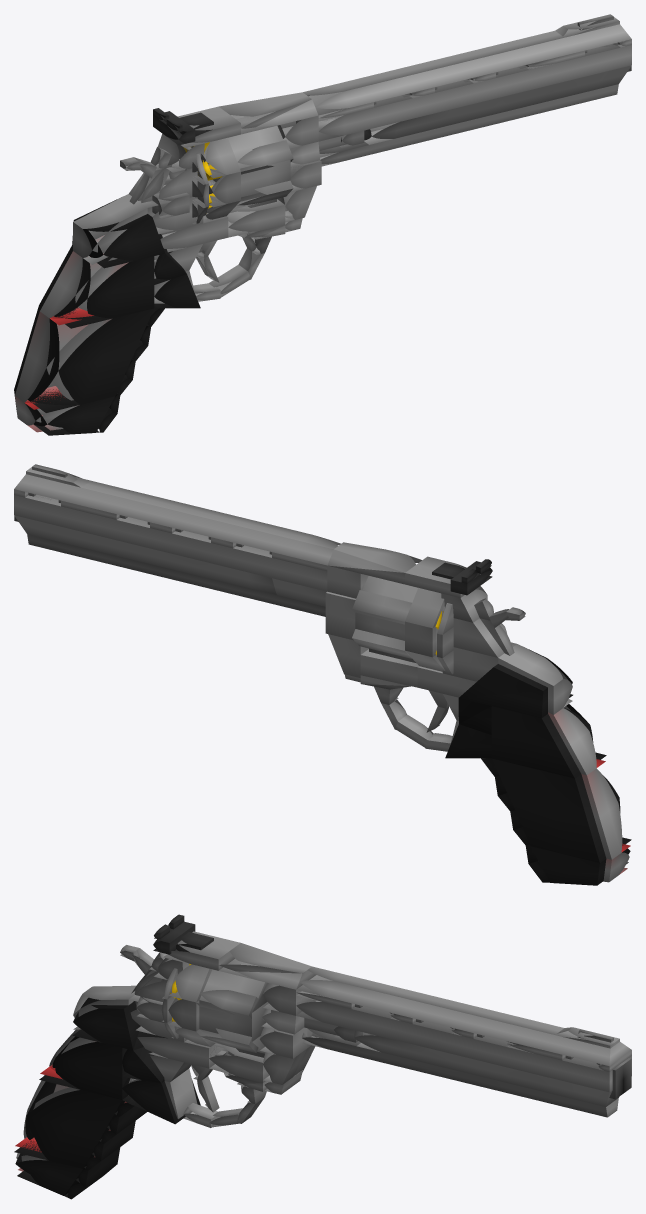
Rendered from ragingbull.obj.
3 renders of one model, top to bottom at view 1: azimuth 30°, elevation 25°; view 2: azimuth 150°, elevation 25°; view 3: azimuth 330°, elevation 25°, orthographic.
Visible parts, largest first — view 1: gunModel32, gunModel39, gunModel18, gunModel40, gunModel20, gunModel41, gunModel16, gunModel21, gunModel9, gunModel11, gunModel15, gunModel19 (+21 smaller); view 2: gunModel32, gunModel39, gunModel18, gunModel20, gunModel40, gunModel41, gunModel21, gunModel11, gunModel16, gunModel9, gunModel19, gunModel15 (+20 smaller); view 3: gunModel32, gunModel39, gunModel18, gunModel40, gunModel41, gunModel20, gunModel21, gunModel11, revolverBarrelModel11, gunModel19, gunModel22, gunModel3 (+31 smaller).
Part boxes in pixels (<box>): gunModel32: <box>303,24,631,115</box>; gunModel39: <box>318,40,631,141</box>; gunModel18: <box>14,305,153,412</box>; gunModel40: <box>364,65,631,144</box>; gunModel20: <box>39,245,154,328</box>; gunModel41: <box>319,84,618,166</box>; gunModel16: <box>15,307,111,409</box>; gunModel21: <box>72,197,165,268</box>; gunModel9: <box>73,194,147,264</box>; gunModel11: <box>219,92,318,134</box>; gunModel15: <box>40,236,128,325</box>; gunModel19: <box>14,389,114,435</box>; gunModel32: <box>14,474,340,565</box>; gunModel39: <box>14,494,327,591</box>; gunModel18: <box>492,758,631,862</box>; gunModel20: <box>491,704,606,778</box>; gunModel40: <box>14,515,276,594</box>; gunModel41: <box>27,534,325,616</box>; gunModel21: <box>459,647,572,718</box>; gunModel11: <box>327,542,421,584</box>; gunModel16: <box>581,768,630,859</box>; gunModel9: <box>498,644,572,714</box>; gunModel19: <box>531,846,630,885</box>; gunModel15: <box>548,706,605,775</box>; gunModel32: <box>296,966,631,1066</box>; gunModel39: <box>296,997,631,1092</box>; gunModel18: <box>14,1076,124,1168</box>; gunModel40: <box>354,1030,618,1106</box>; gunModel41: <box>302,1028,618,1117</box>; gunModel20: <box>39,1036,128,1099</box>; gunModel21: <box>72,997,167,1050</box>; gunModel11: <box>219,943,316,989</box>; revolverBarrelModel11: <box>172,998,268,1041</box>; gunModel19: <box>15,1140,84,1195</box>; gunModel22: <box>122,1078,200,1124</box>; gunModel3: <box>137,1037,228,1068</box>.
Bounding box in the file's own units: 10.8 × 4.88 × 1.41.
